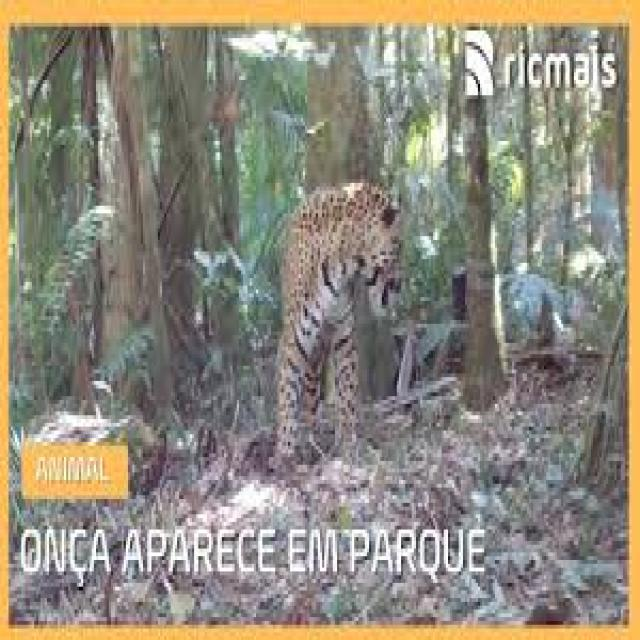Jaguar: (267, 168, 401, 453)
